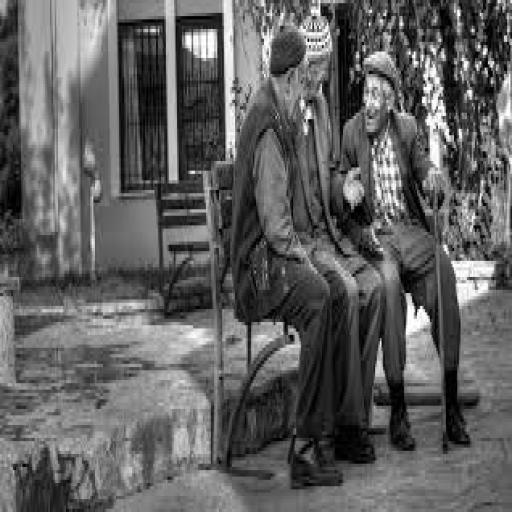sitting: (227, 13, 473, 486)
